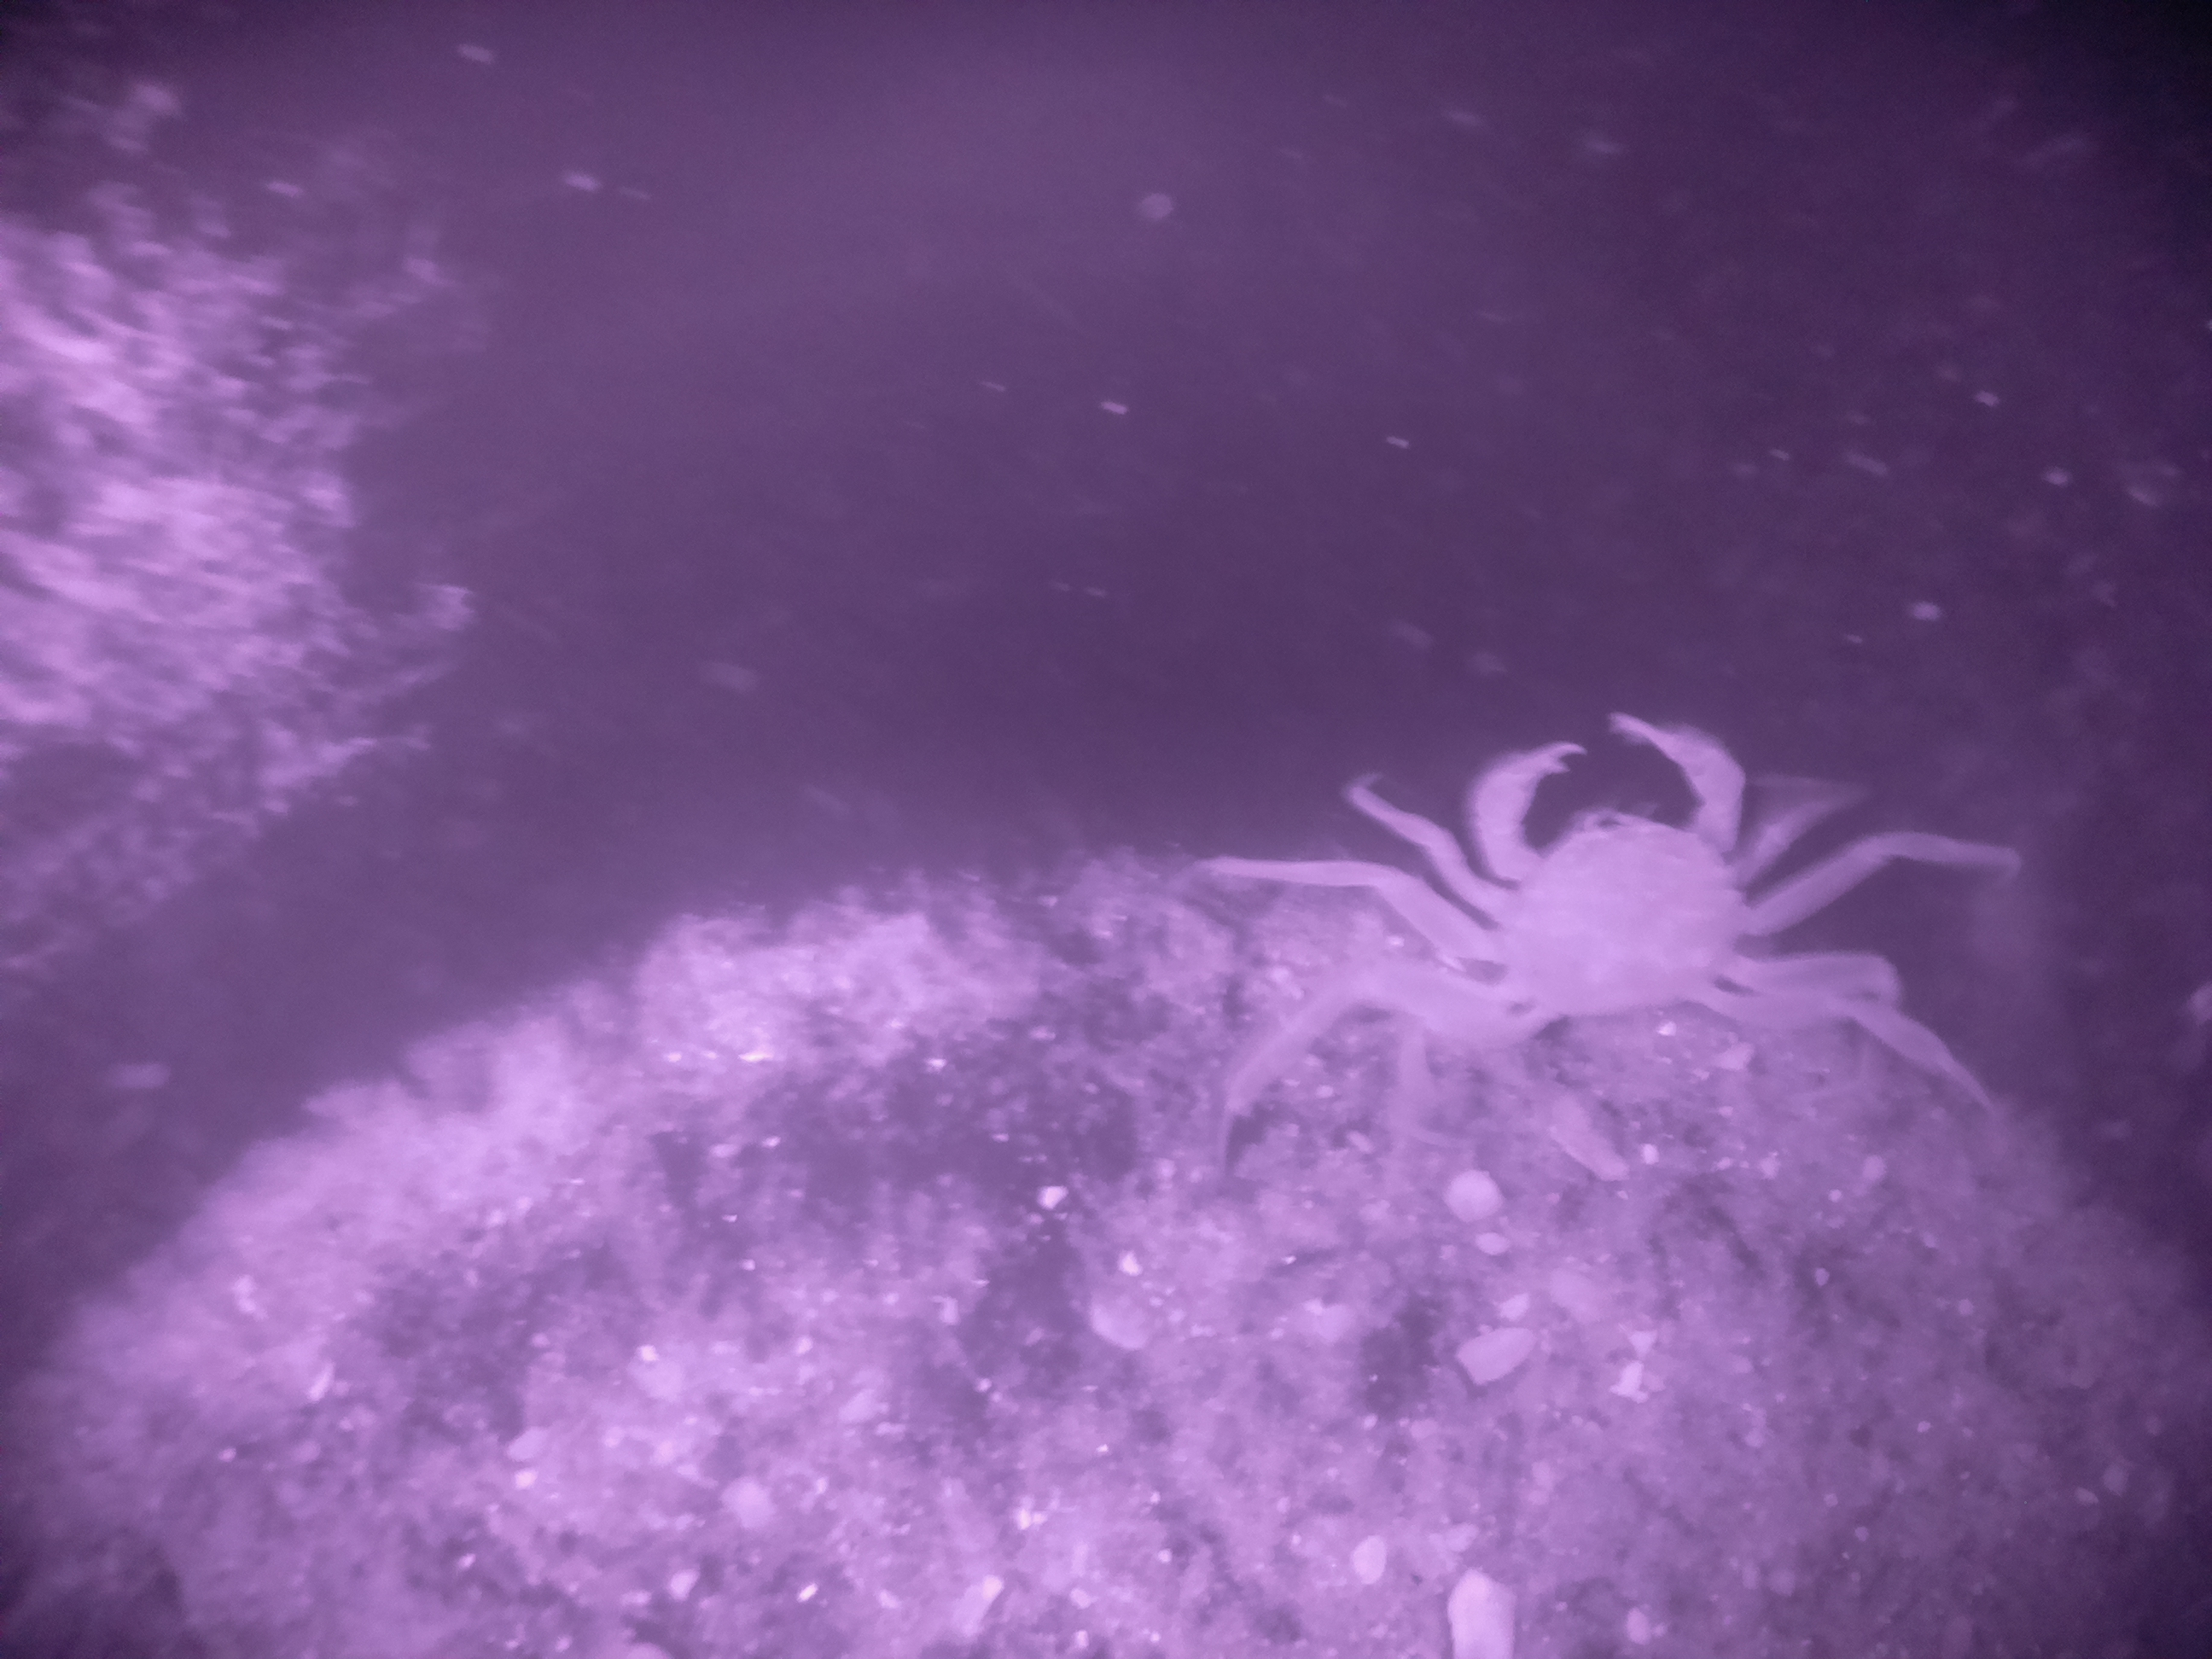Crab: (1343, 664, 1844, 1094)
